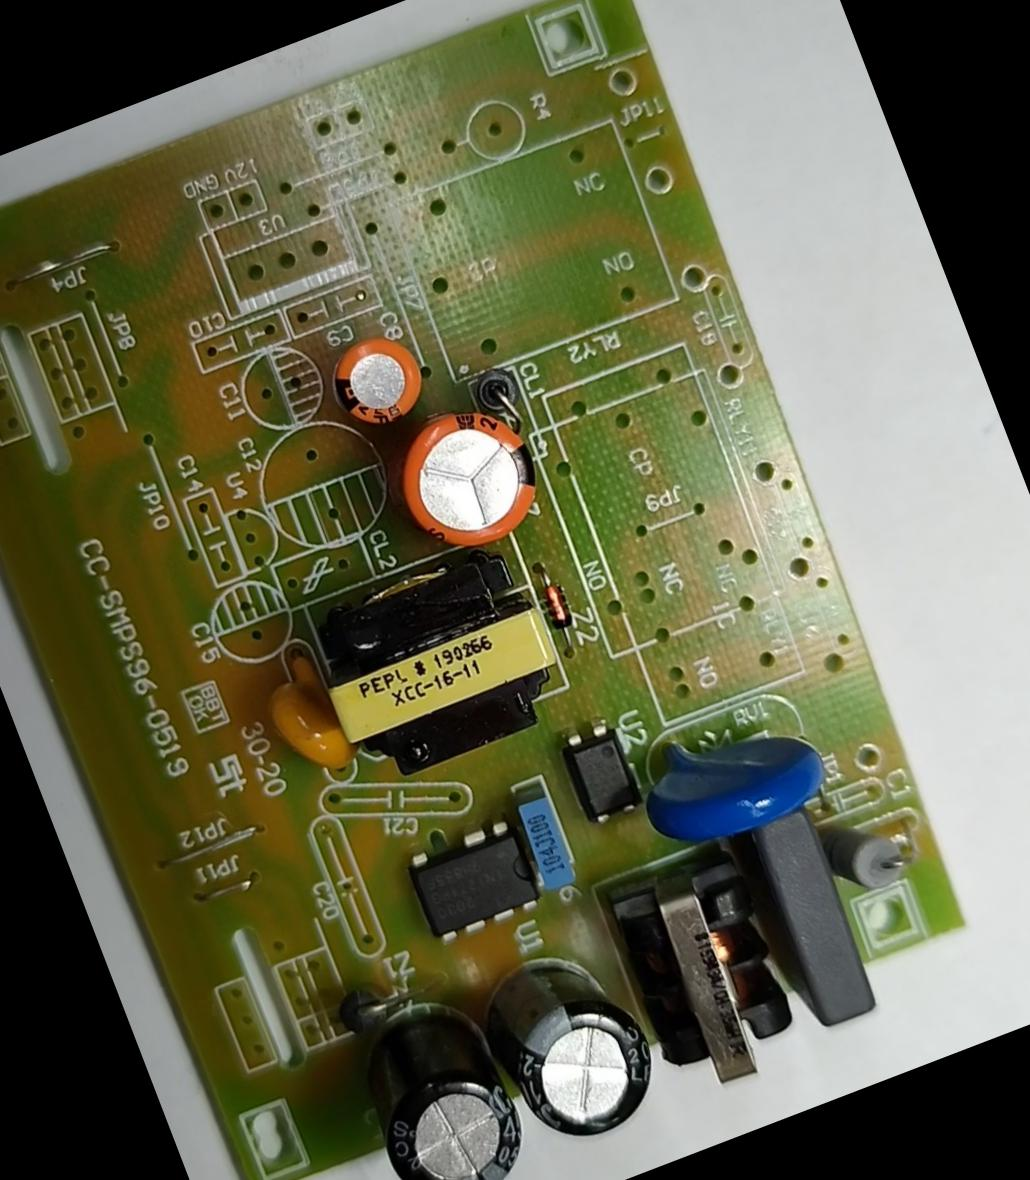Cap1: (376, 383, 564, 572)
Cap2: (322, 322, 439, 442)
Cap3: (475, 934, 677, 1161)
Cap4: (338, 981, 550, 1179)
MOSFET: (407, 815, 545, 952)
Mov: (628, 690, 837, 859)
Resistor: (816, 790, 923, 912)
Transformer: (295, 529, 582, 793), (604, 845, 815, 1109)
